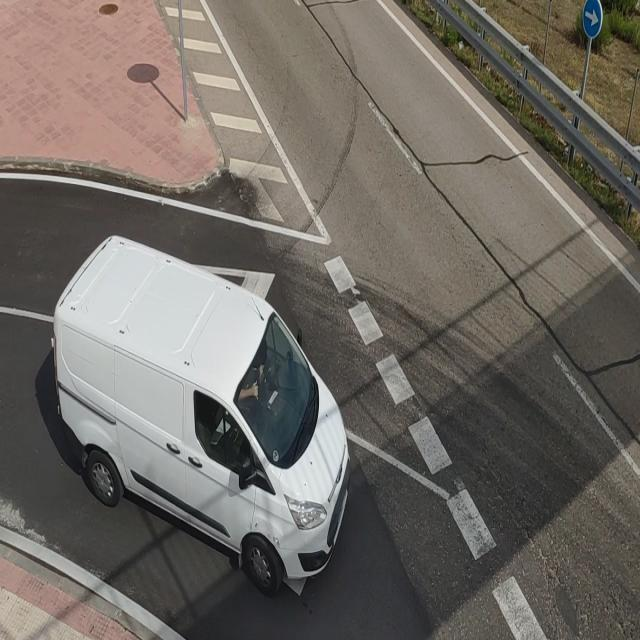Truck: (48, 232, 350, 604)
